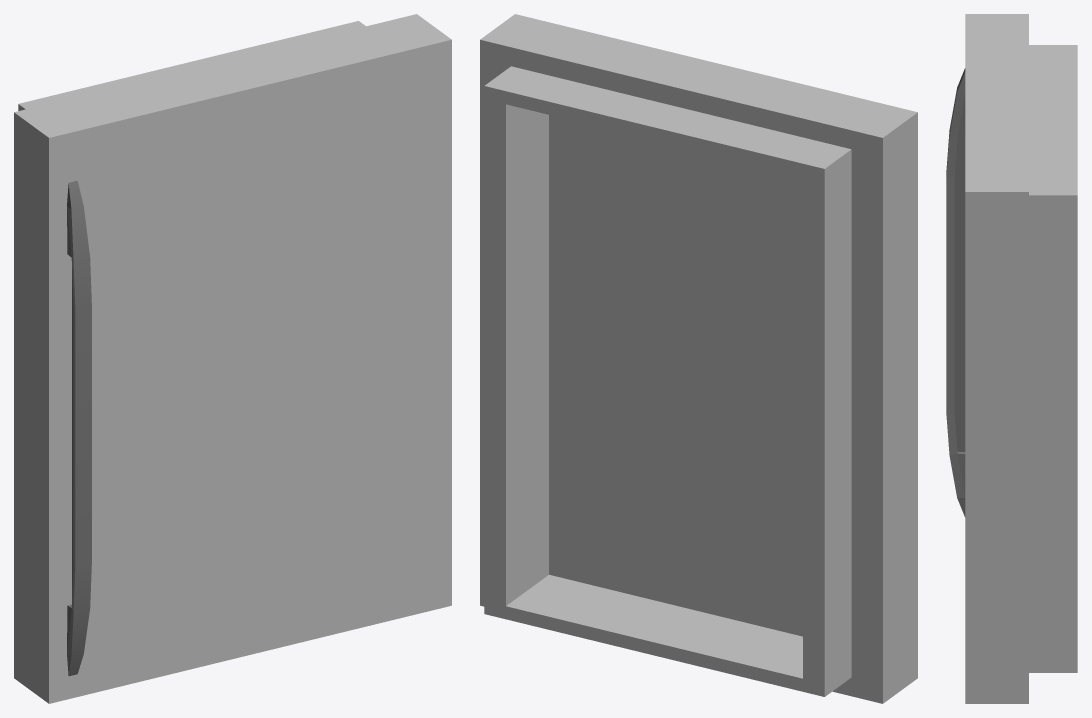
File: Itr_Obj_Fridge2_Top_Door_01.FBX
3 renders of one model, left to right at view 1: azimuth 30°, elevation 25°; view 2: azimuth 150°, elevation 25°; view 3: azimuth 270°, elevation 25°, orthographic. The views are drawn at different scales.
Visible parts, largest first — view 1: Itr_Obj_Fridge2_Top_Door_01; view 2: Itr_Obj_Fridge2_Top_Door_01; view 3: Itr_Obj_Fridge2_Top_Door_01.
Boxes of the visible parts, <box> form: Itr_Obj_Fridge2_Top_Door_01: <box>14,14,451,703</box>; Itr_Obj_Fridge2_Top_Door_01: <box>480,14,917,703</box>; Itr_Obj_Fridge2_Top_Door_01: <box>946,14,1077,703</box>.
Bounding box in the file's own units: 34.44 × 46.23 × 10.74.
